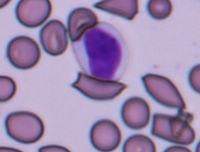M: (72, 23, 129, 82)
